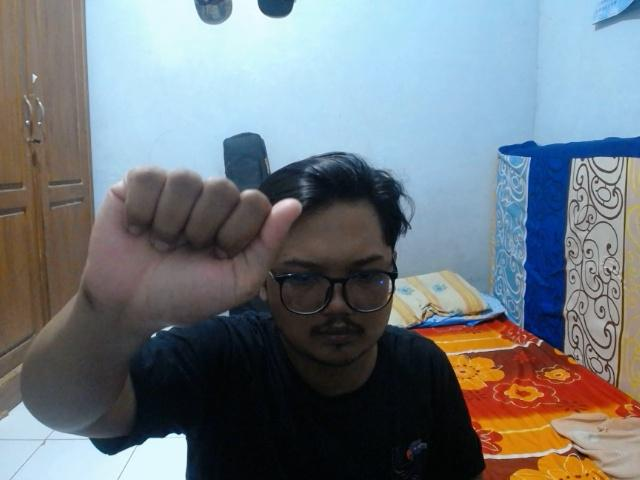Grab: (77, 160, 304, 328)
